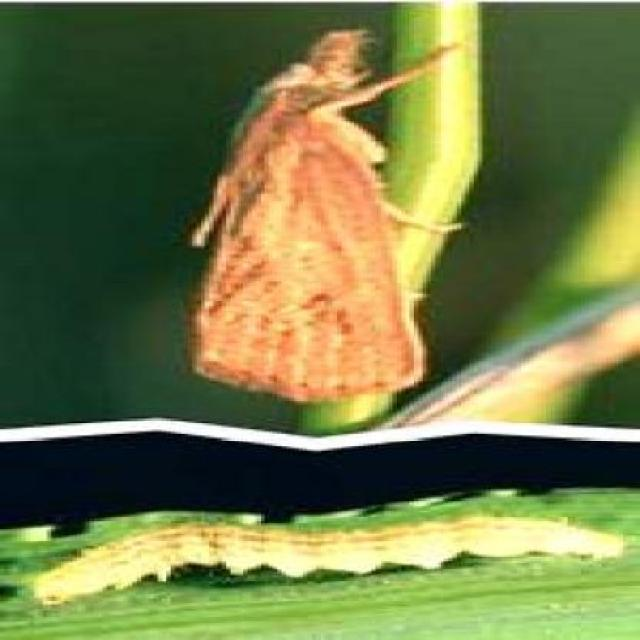stem-borer: (175, 25, 459, 403)
